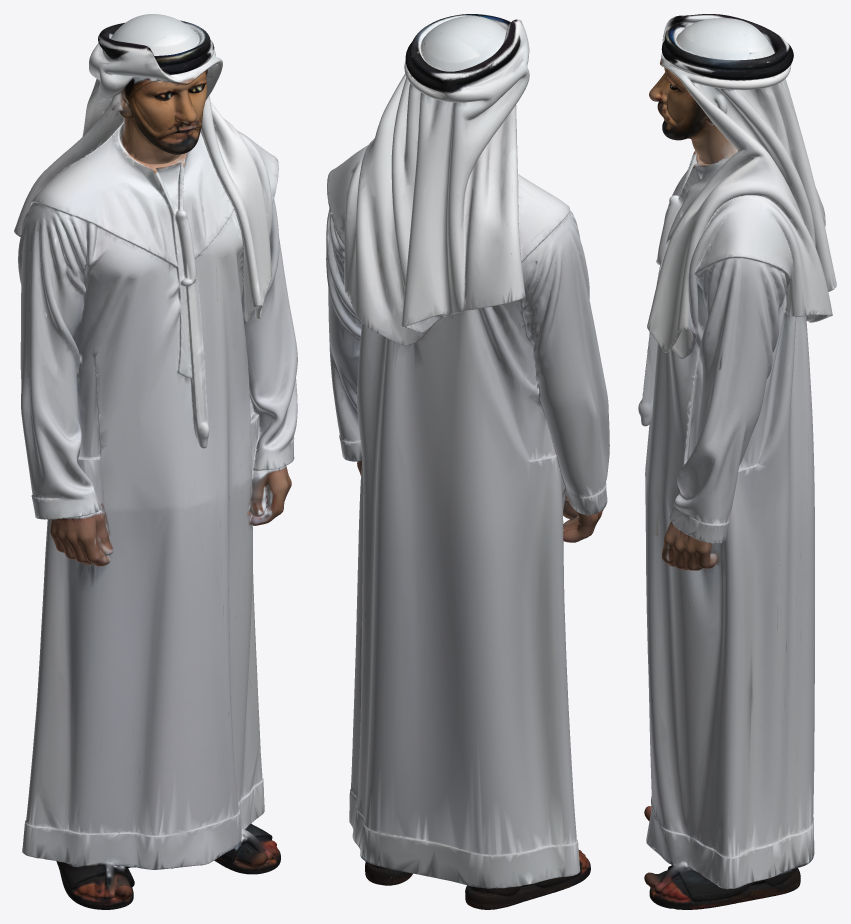
File: emarat.glb
The picture shows the model from 3 angles, left to right: view 1: azimuth 30°, elevation 25°; view 2: azimuth 150°, elevation 25°; view 3: azimuth 270°, elevation 25°; orthographic projection.
Visible parts, largest first — view 1: material.001; view 2: material.001; view 3: material.001.
Part boxes in pixels (x1,y1,x2,y2): material.001: (14, 14, 297, 909); material.001: (326, 14, 609, 909); material.001: (638, 14, 836, 909).
Size of the model in its own units: 0.3849 by 1.16 by 0.2477.
1 material, 1 textured.
